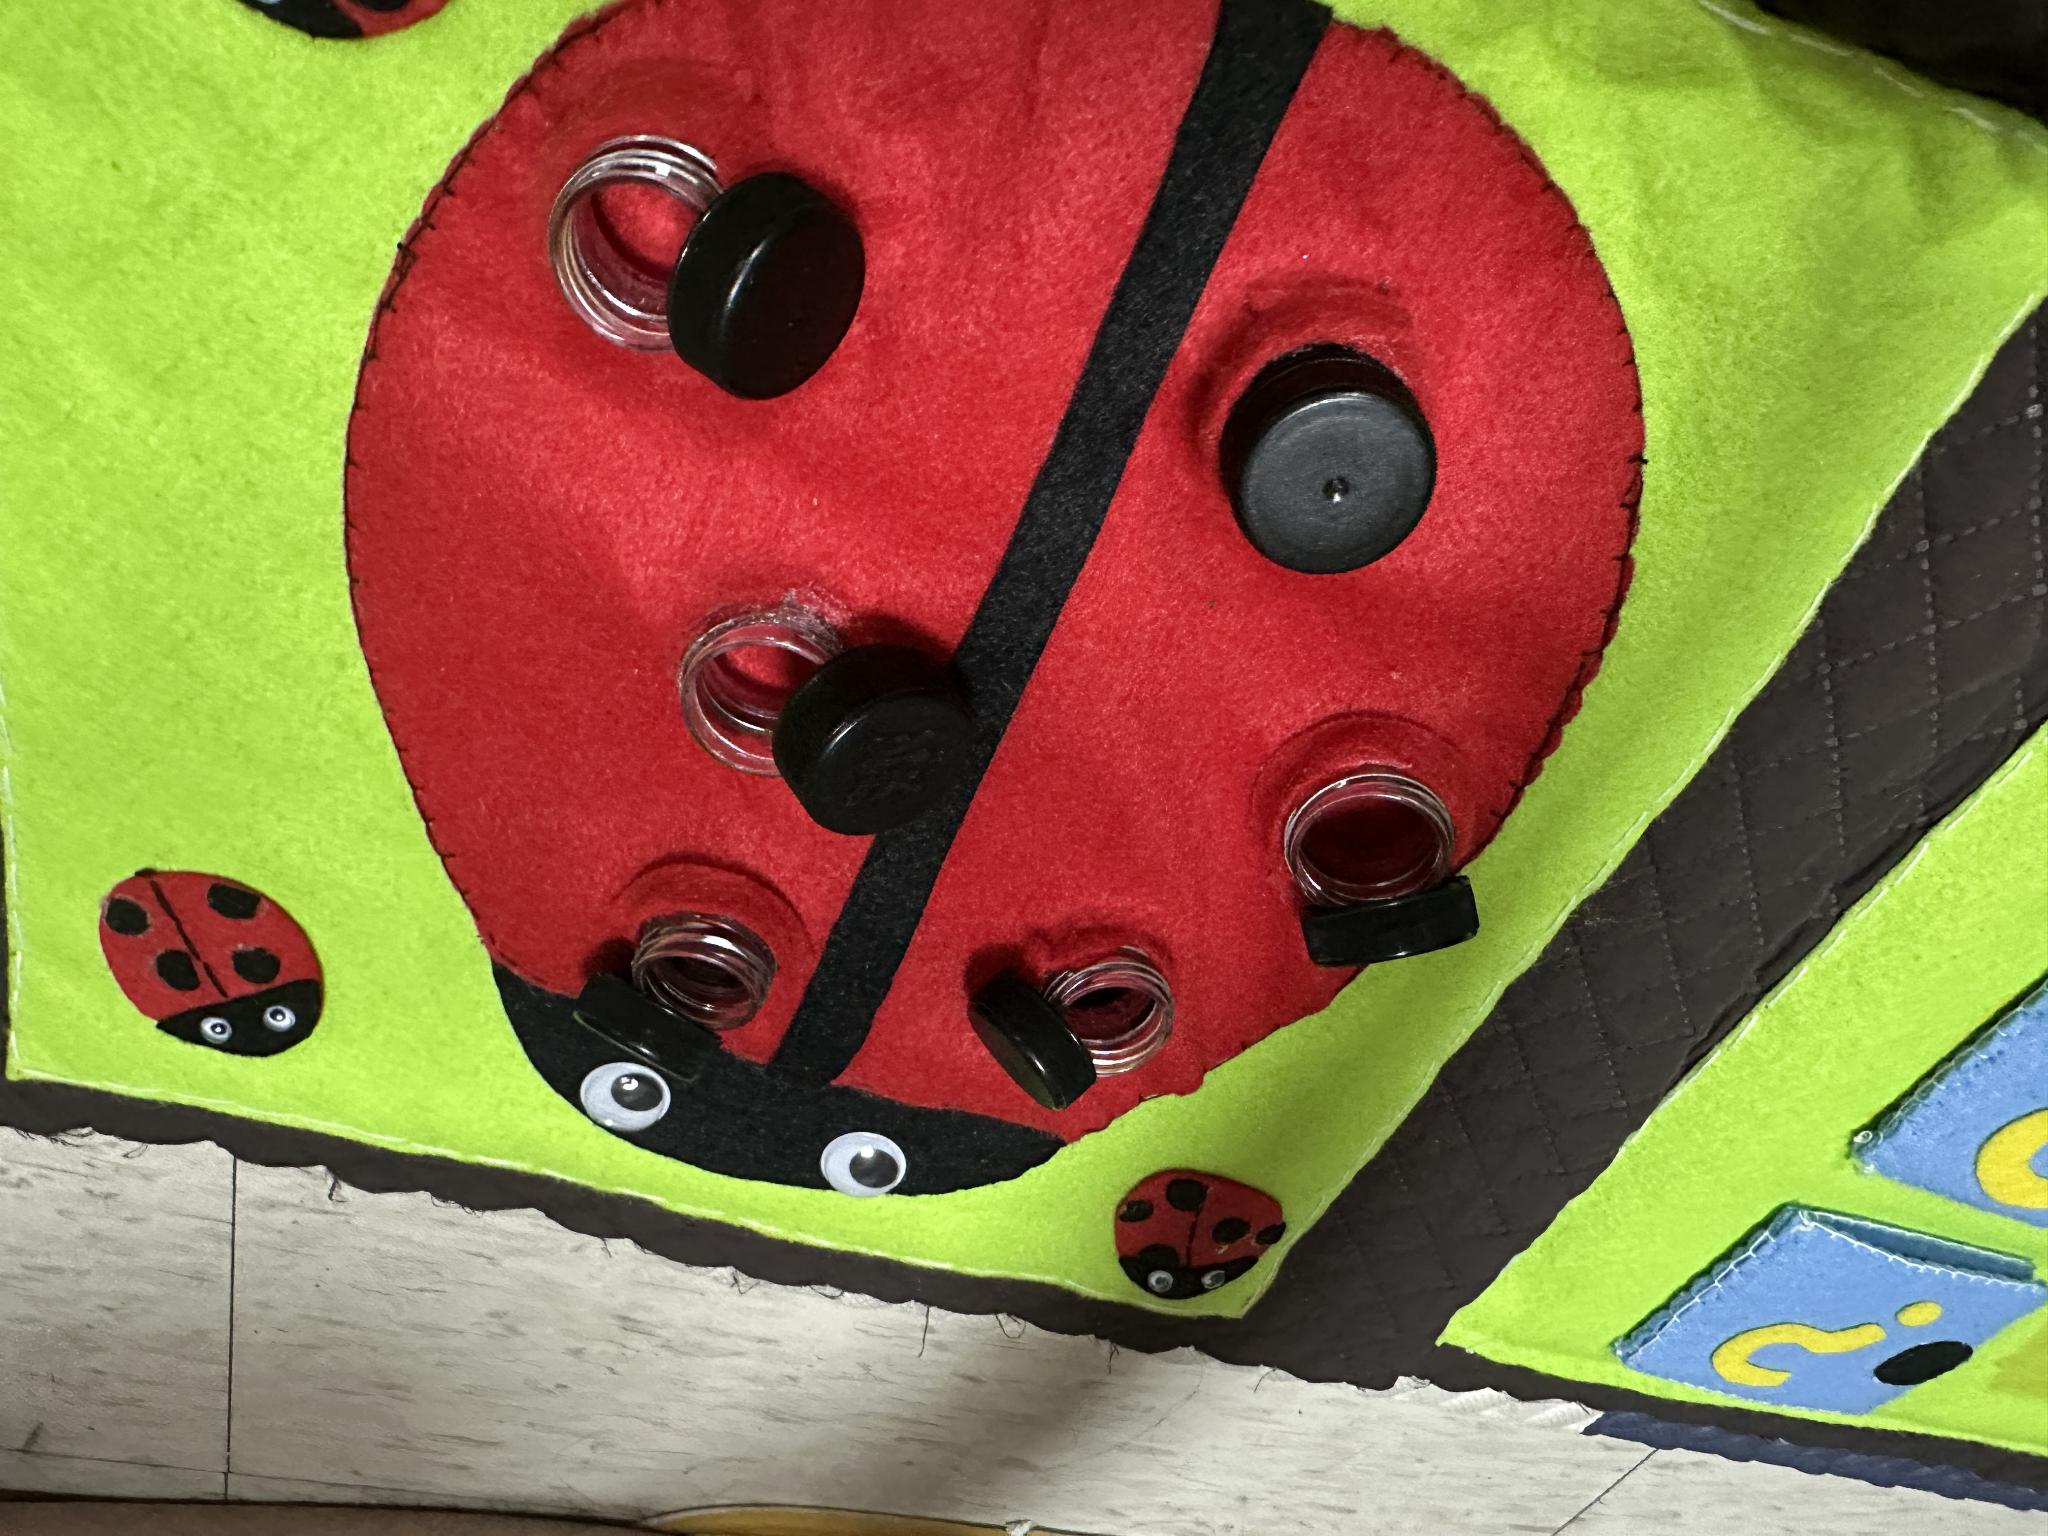cap_ng: (513, 89, 885, 418), (648, 565, 982, 850), (527, 852, 826, 1118), (1237, 716, 1505, 995), (950, 900, 1205, 1134)
cap_ok: (1185, 316, 1482, 615)
